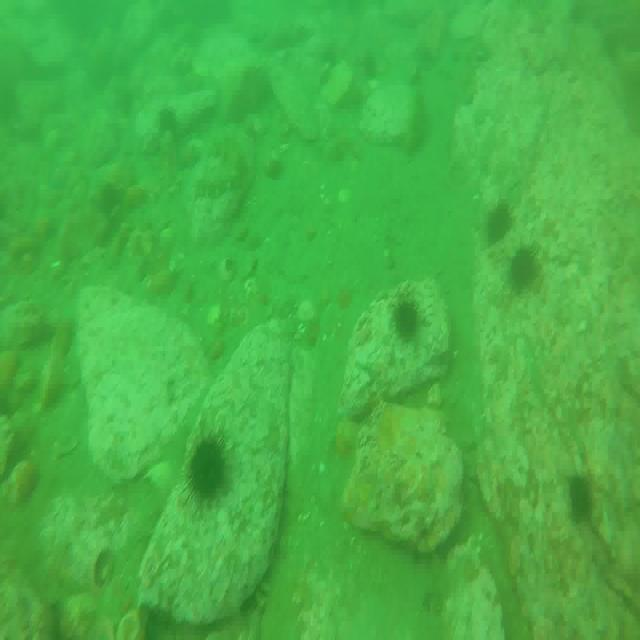echinus: (188, 433, 225, 499), (565, 471, 592, 522), (510, 244, 539, 291), (486, 204, 515, 248), (394, 297, 420, 344)
